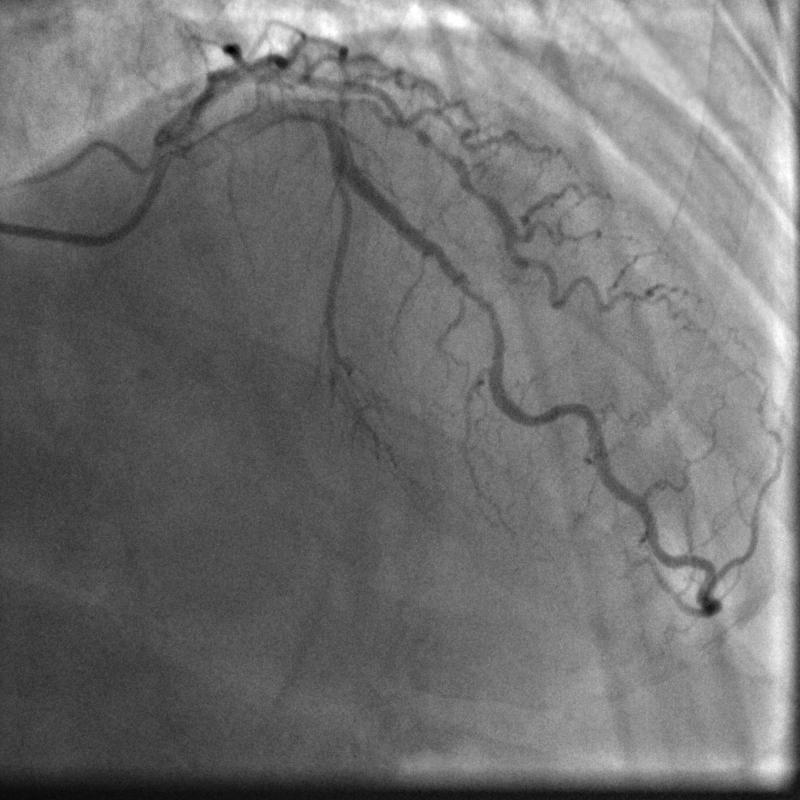Stenosis: (466, 277, 505, 369)
